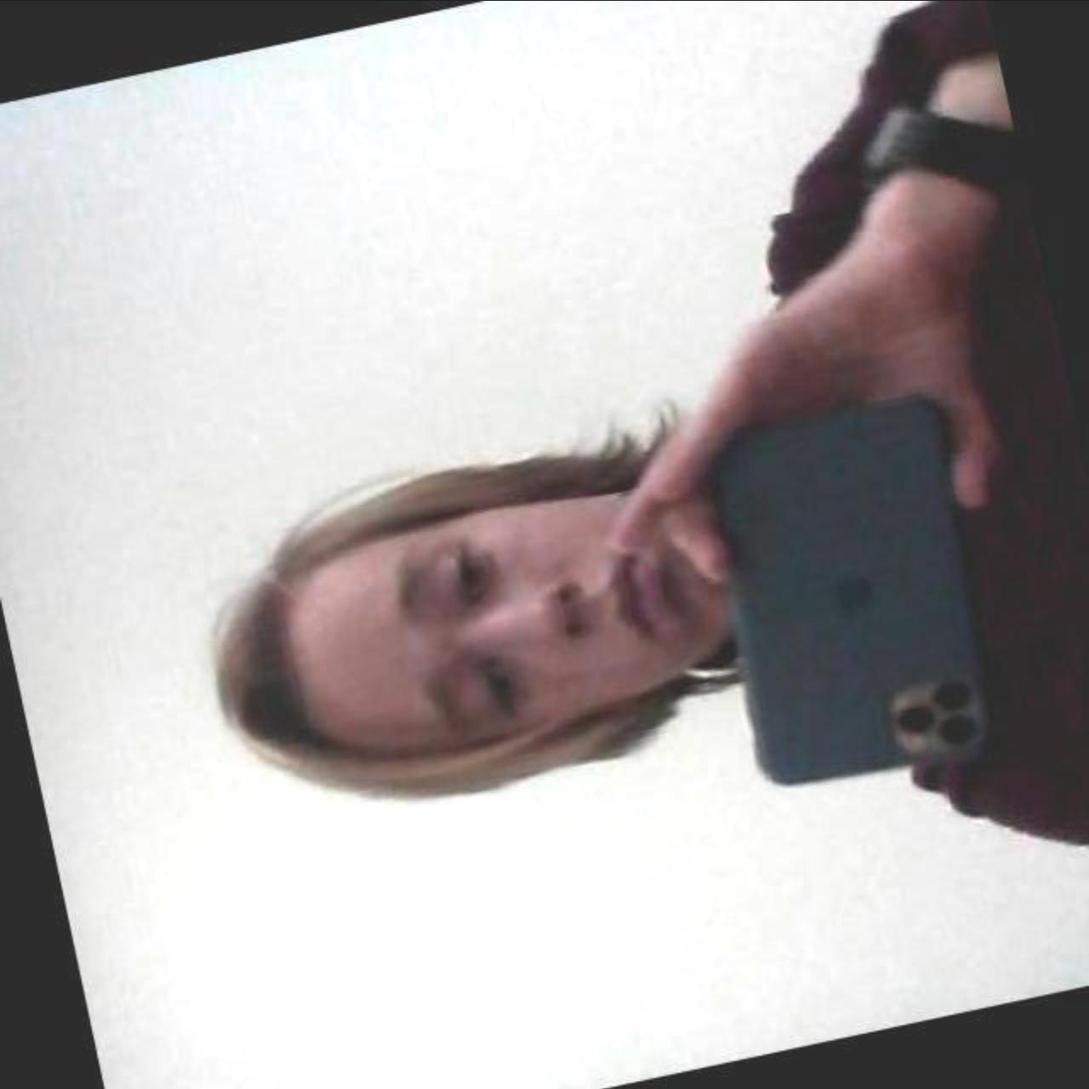phone: (711, 389, 987, 789)
